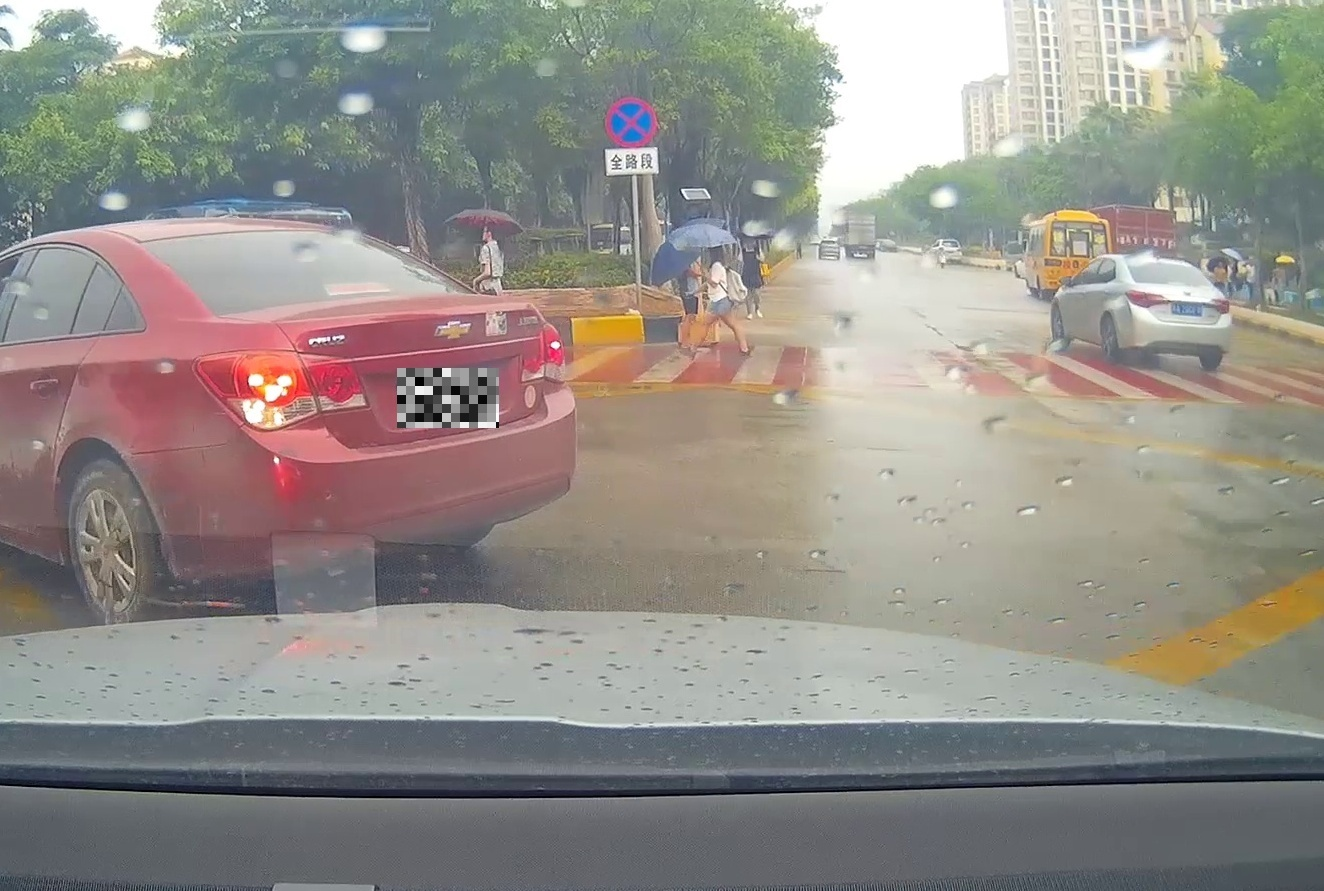L_light: (189, 346, 371, 433), (1125, 290, 1171, 308)
R_light: (520, 322, 570, 385), (1211, 298, 1230, 314)
T_light: (325, 279, 394, 296), (1168, 280, 1187, 285)
day-left: (117, 216, 580, 625)
day-no: (1119, 254, 1234, 368)
plate_1: (397, 368, 499, 428)
